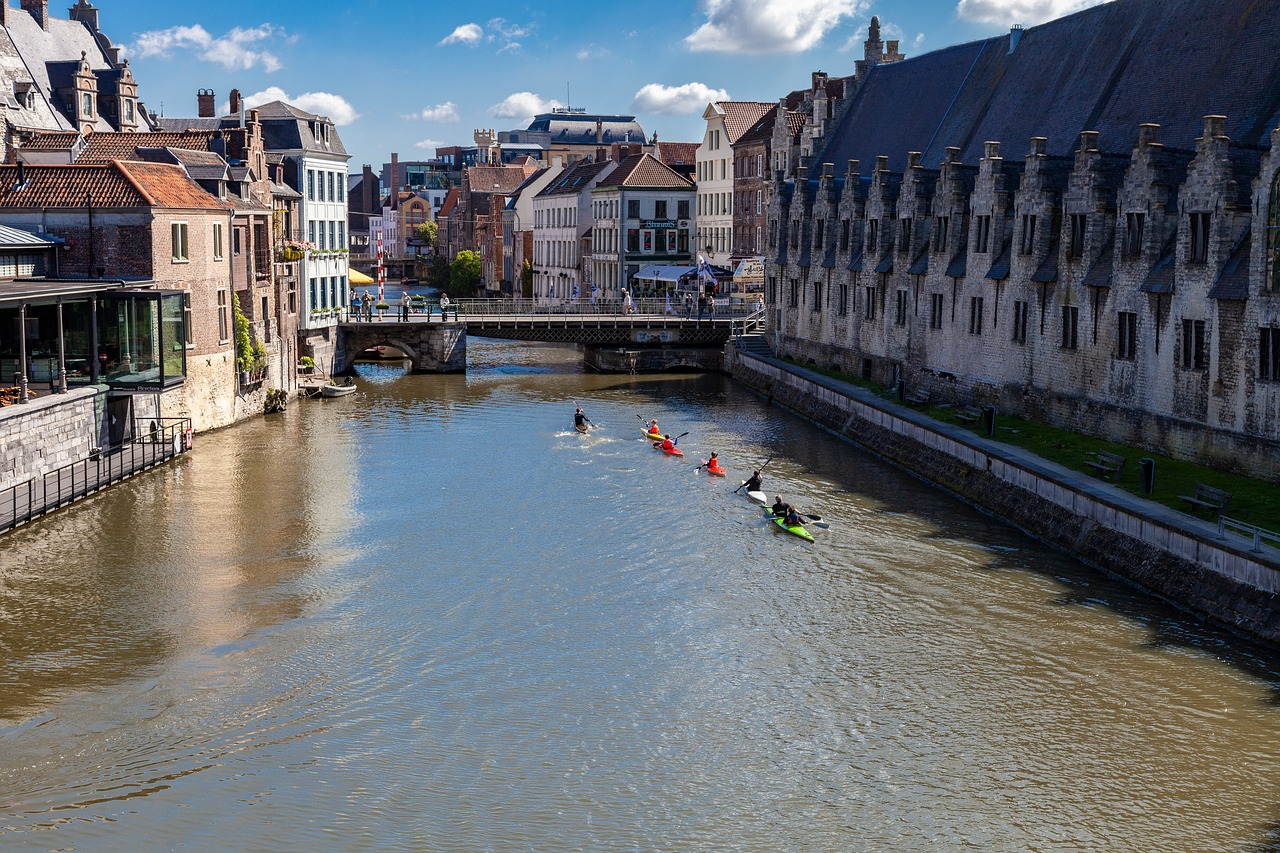kayak: (761, 503, 816, 546), (699, 457, 730, 480)
